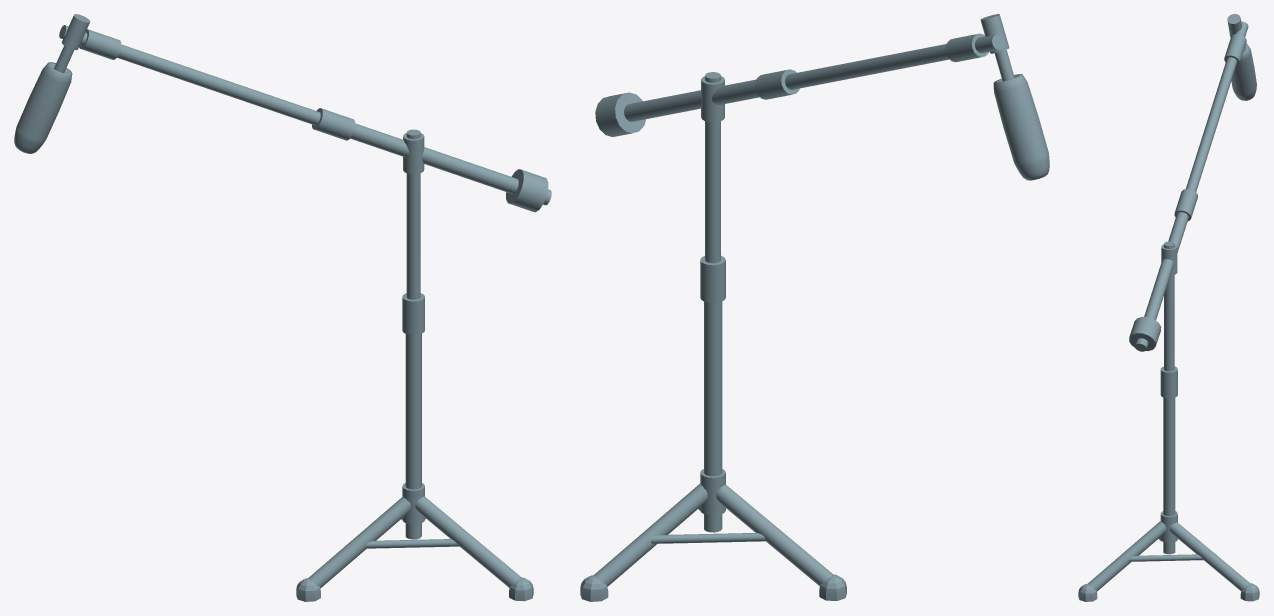
File: Microphone.fbx
The picture shows the model from 3 angles, left to right: view 1: azimuth 30°, elevation 25°; view 2: azimuth 150°, elevation 25°; view 3: azimuth 270°, elevation 25°; orthographic projection. The views are drawn at different scales.
Visible parts, largest first — view 1: Microphone; view 2: Microphone; view 3: Microphone.
Boxes of the visible parts, left/top/right/bottom form: Microphone: left=14, top=14, right=551, bottom=601; Microphone: left=580, top=14, right=1049, bottom=601; Microphone: left=1078, top=14, right=1259, bottom=601.
Size of the model in its own units: 158 by 193 by 69.79.
